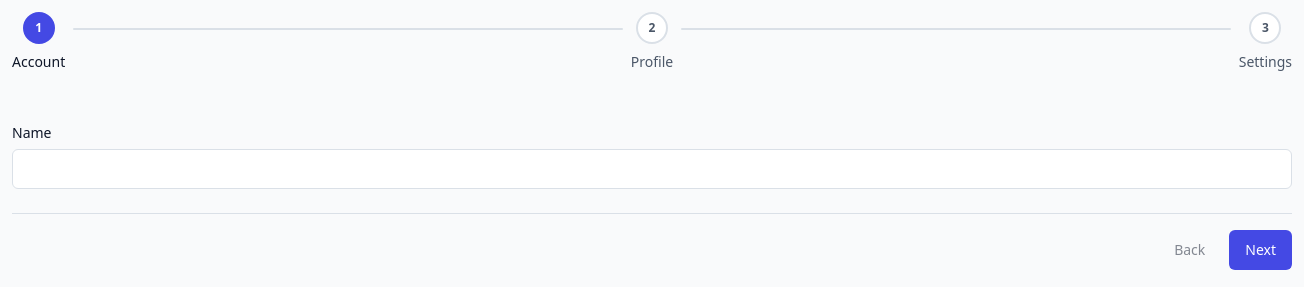
Test: FormWizard — navigation › clicking a future step with invalid prior shows blocked toast and stays
Click the tab named "Settings". click: (1265, 28)
box: top-left (1249, 12), bottom-right (1281, 44)
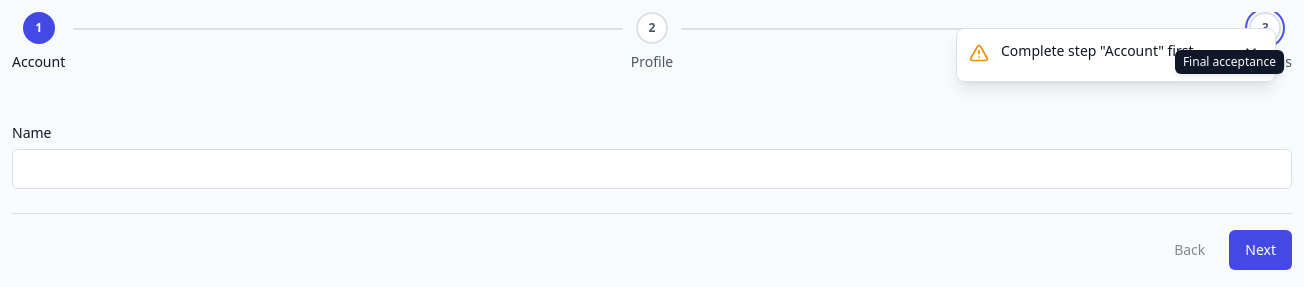
Expected: the text "Complete step \"Account\" first." is shown, top-left (1001, 41), bottom-right (1223, 61)
